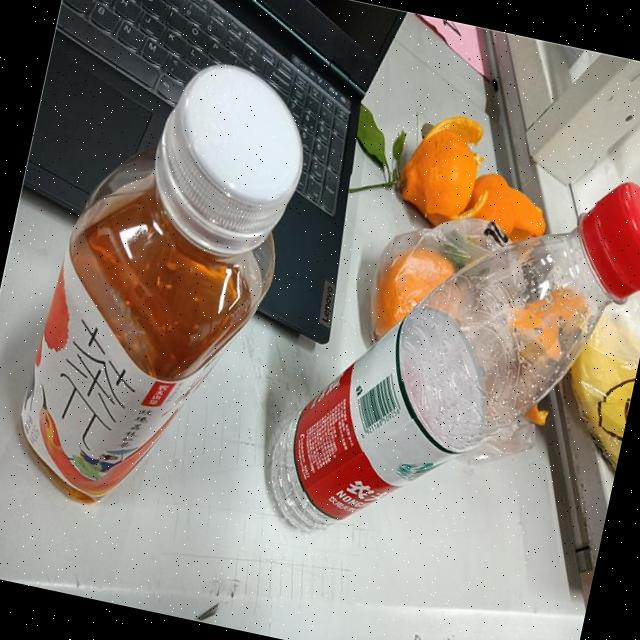orange-peel: (392, 120, 486, 226)
